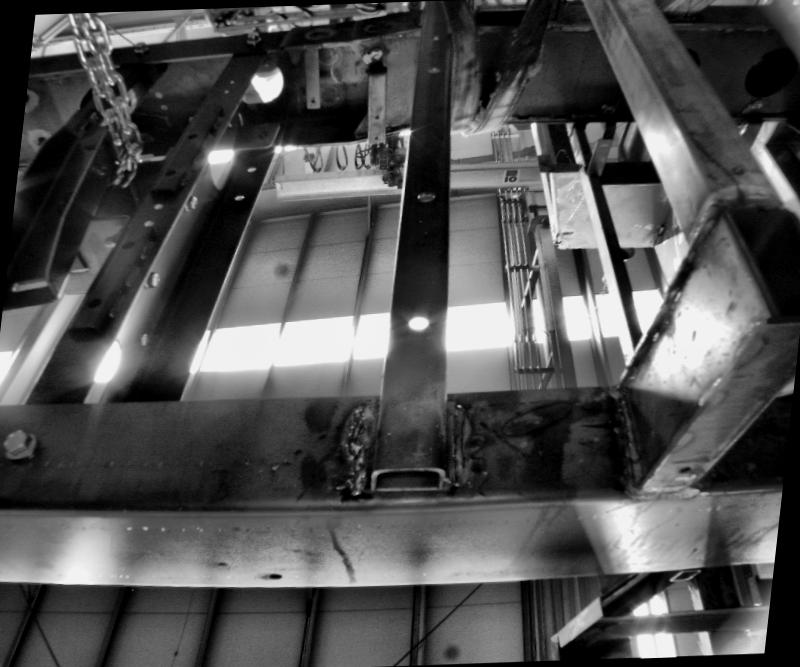bolt: (1, 431, 40, 462), (180, 192, 202, 213), (141, 269, 163, 289), (130, 38, 154, 56), (240, 32, 264, 48), (370, 48, 382, 58)
bracket: (356, 46, 391, 147), (225, 117, 283, 152), (296, 45, 326, 111), (580, 132, 620, 178)
hole: (400, 309, 433, 338), (411, 186, 437, 204), (136, 332, 150, 346), (86, 298, 101, 310), (676, 466, 689, 478), (118, 240, 132, 248), (140, 220, 154, 227), (426, 67, 440, 74), (233, 194, 243, 202), (152, 203, 163, 209), (597, 142, 608, 148), (267, 574, 280, 579), (245, 166, 255, 172), (310, 98, 316, 104), (430, 36, 439, 40), (373, 115, 378, 120), (372, 137, 380, 140)
welding: (436, 399, 482, 486), (342, 394, 366, 495)
